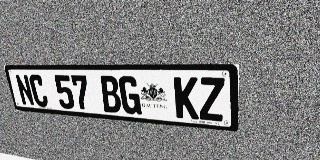5: (54, 75, 76, 109)
7: (70, 75, 92, 111)
B: (99, 76, 122, 113)
C: (28, 75, 49, 107)
G: (118, 76, 142, 115)
K: (174, 77, 199, 119)
N: (14, 74, 35, 106)
Z: (199, 77, 225, 122)
